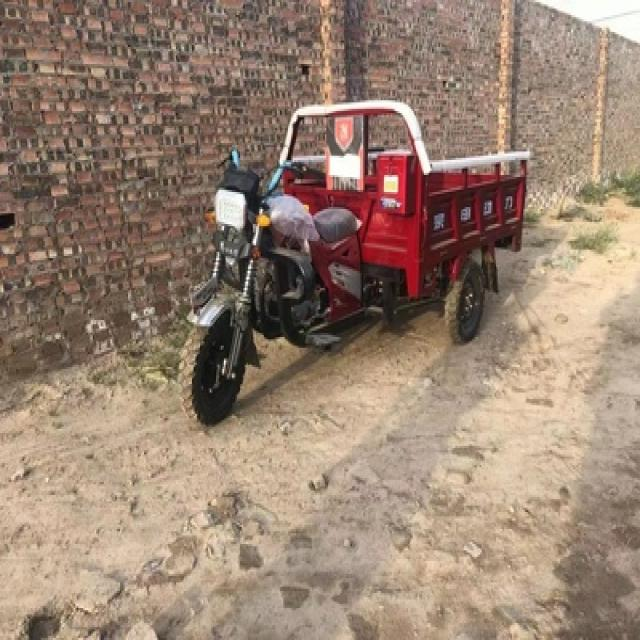tricycle: (176, 94, 528, 422)
